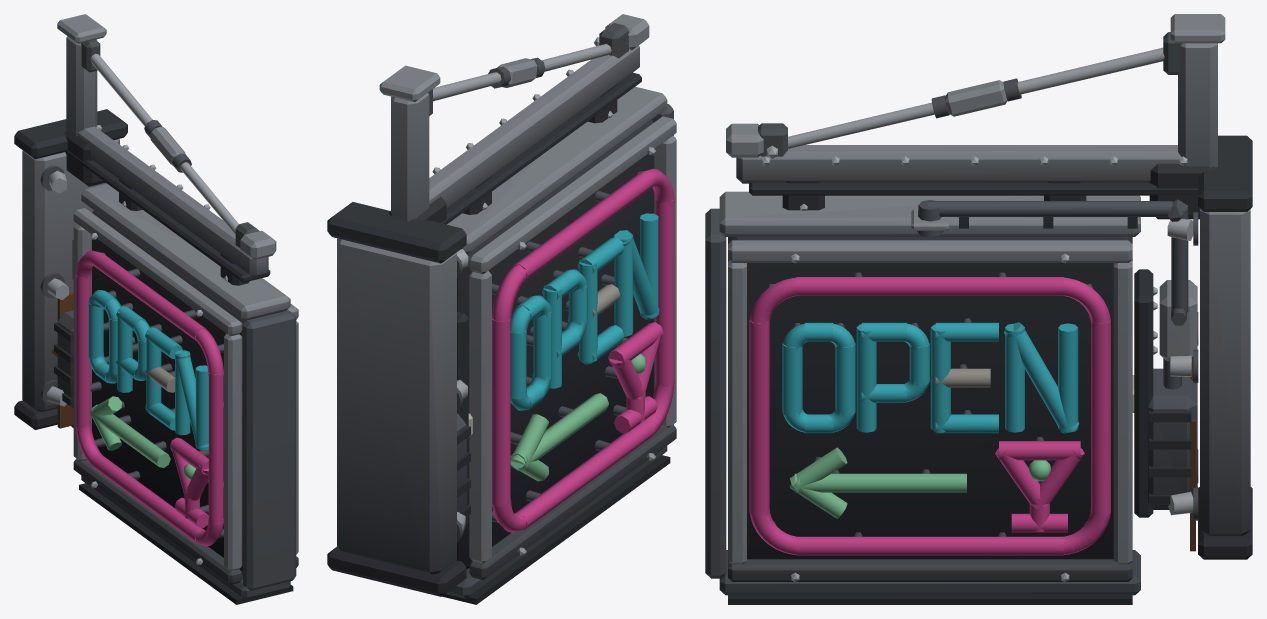
The model's file is neon-shop-sign.glb.
3 renders of one model, left to right at view 1: azimuth 30°, elevation 25°; view 2: azimuth 150°, elevation 25°; view 3: azimuth 270°, elevation 25°, orthographic. The views are drawn at different scales.
Visible parts, largest first — view 1: neon_shop_sign_01; view 2: neon_shop_sign_01; view 3: neon_shop_sign_01.
Boxes of the visible parts, x1=… form: neon_shop_sign_01: x1=14, y1=14, x2=298, y2=604; neon_shop_sign_01: x1=327, y1=14, x2=676, y2=604; neon_shop_sign_01: x1=705, y1=14, x2=1252, y2=604.
Size of the model in its own units: 0.3399 by 1.48 by 1.3.
